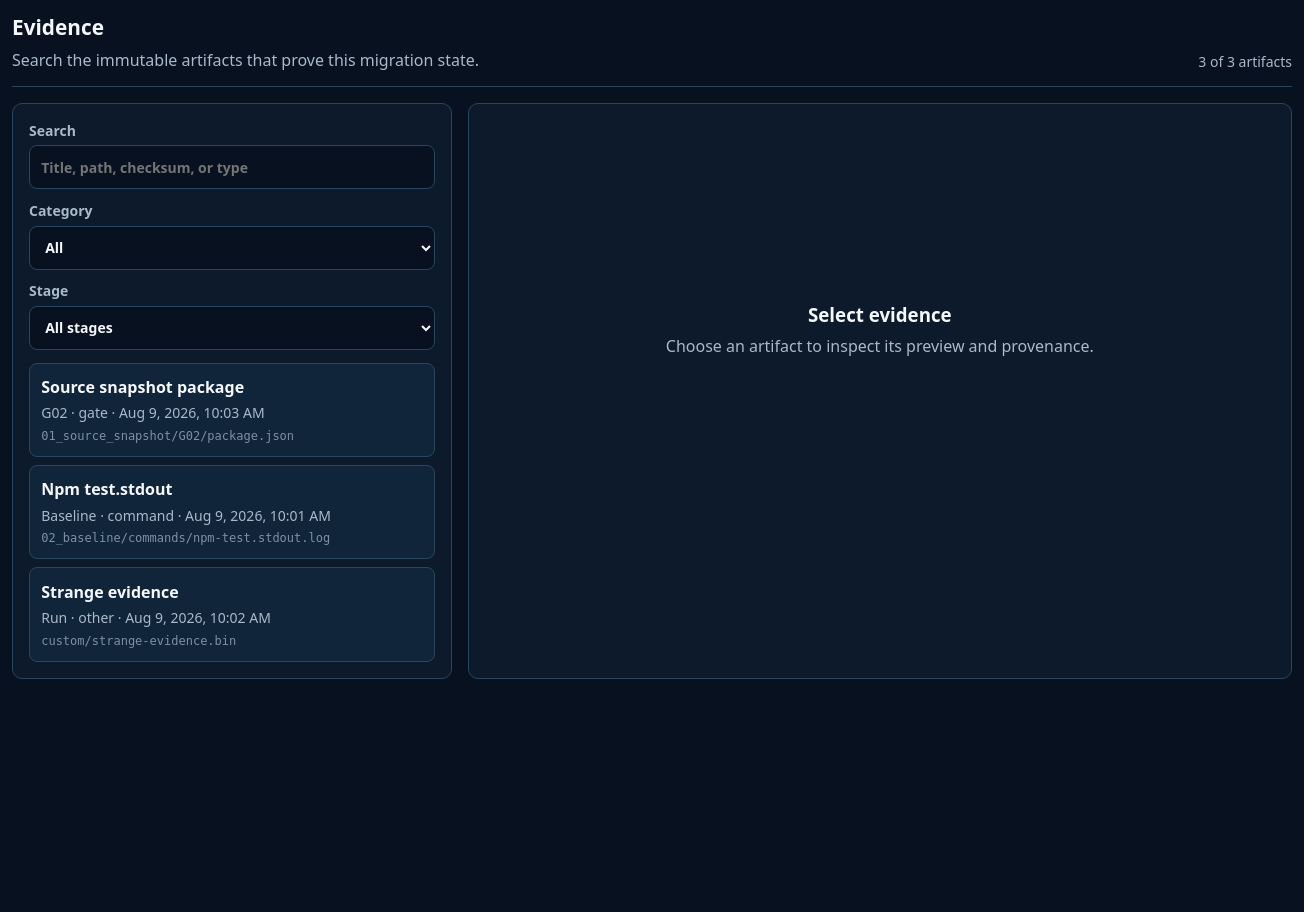
Test: EvidenceWorkspace › keeps a failed preview explicit and selectable for retry
Click the button "Source snapshot package": (232, 410) 29,362 -> 435,457
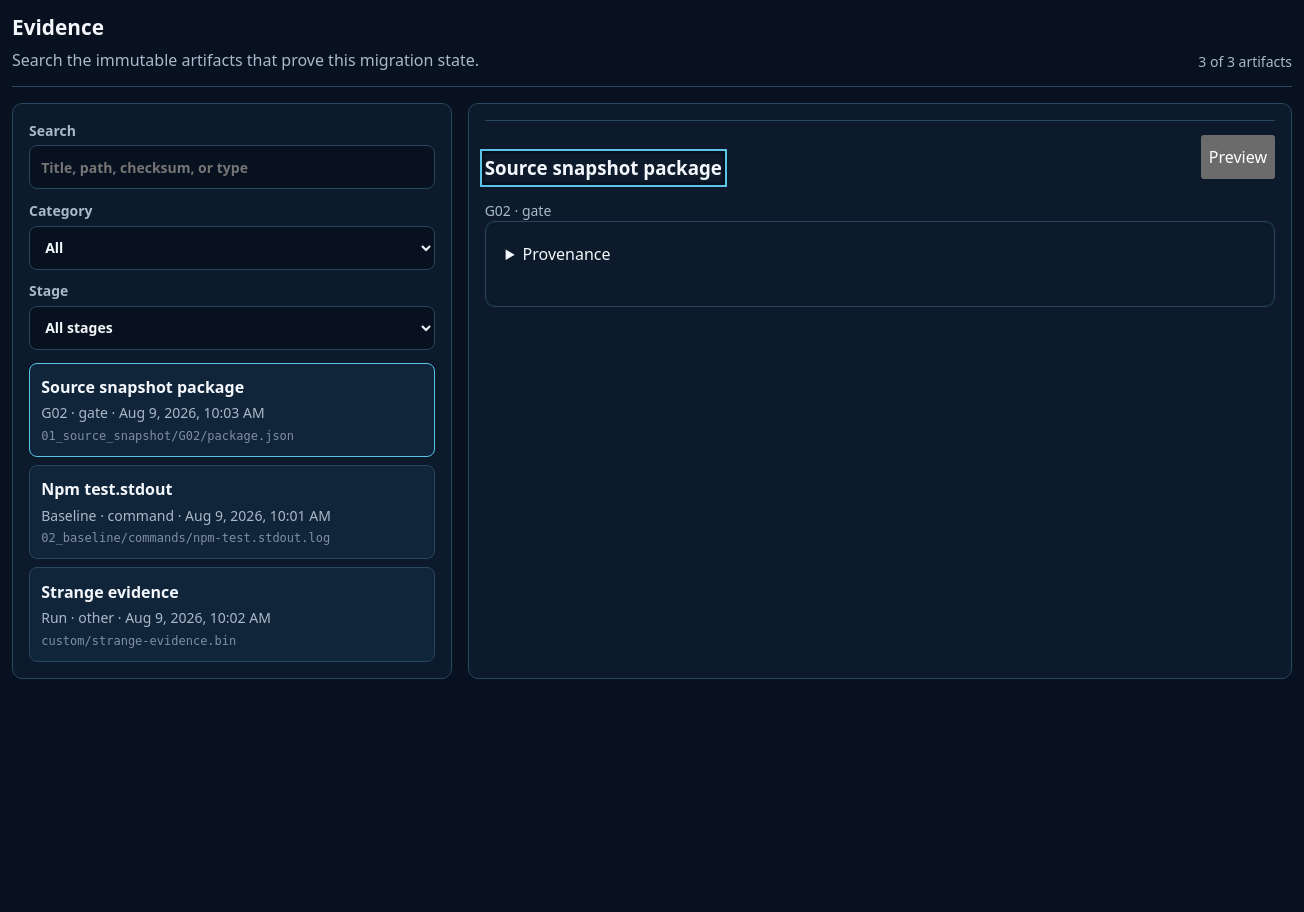
Click the button "Preview": (1238, 157) 1201,135 -> 1275,179
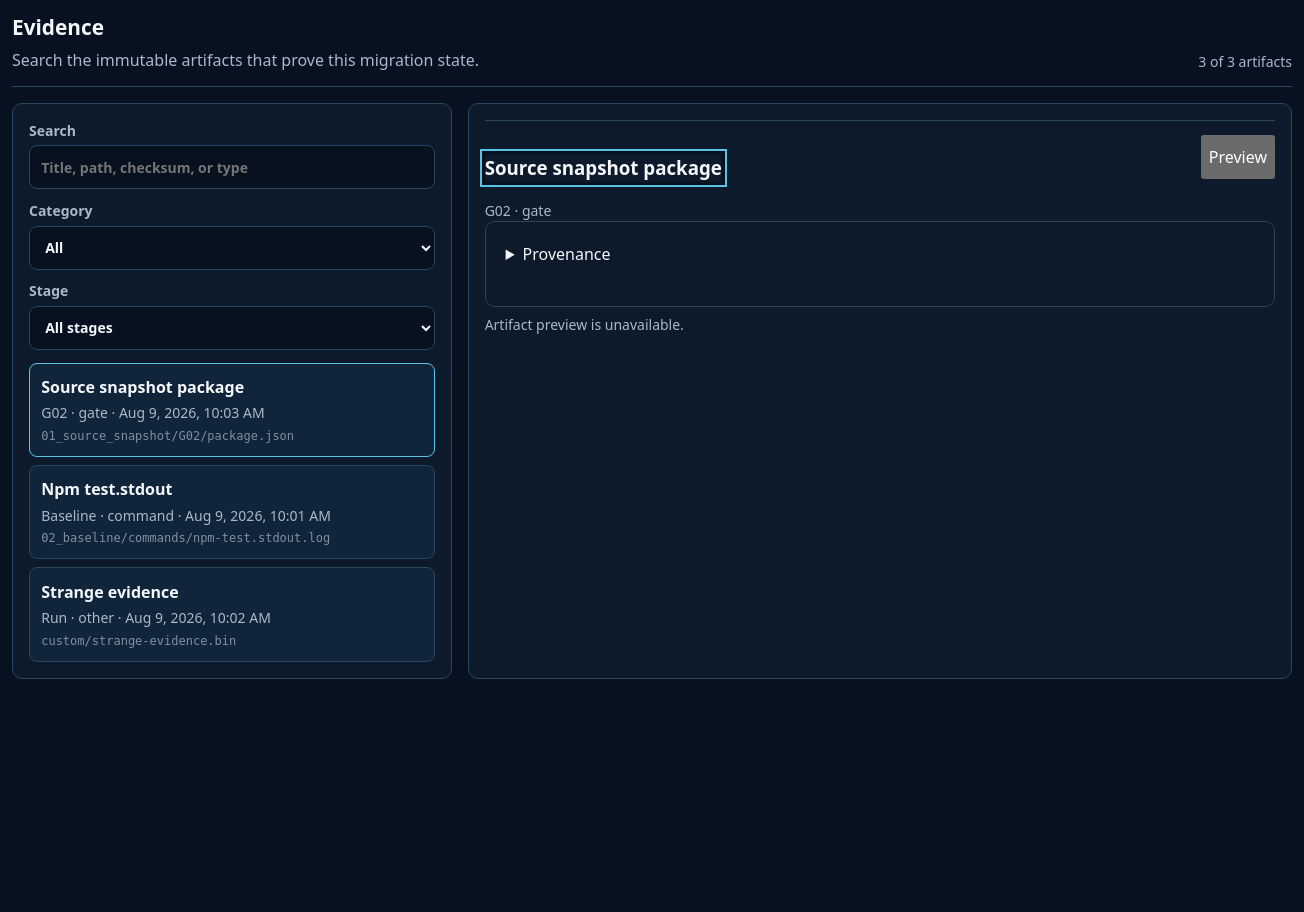
Result: the button "Preview" is enabled at 1201,135 -> 1275,179
Result: the message reads "Artifact preview is unavailable." at 485,315 -> 684,334
